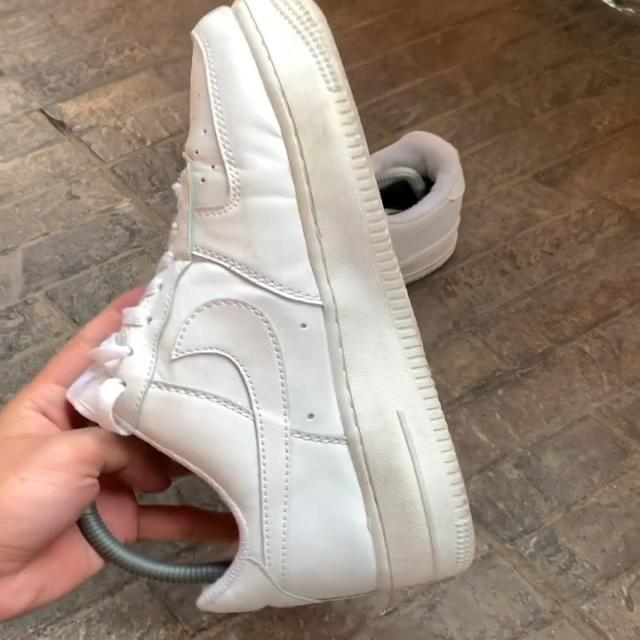nike fake air force: (52, 0, 476, 616)
